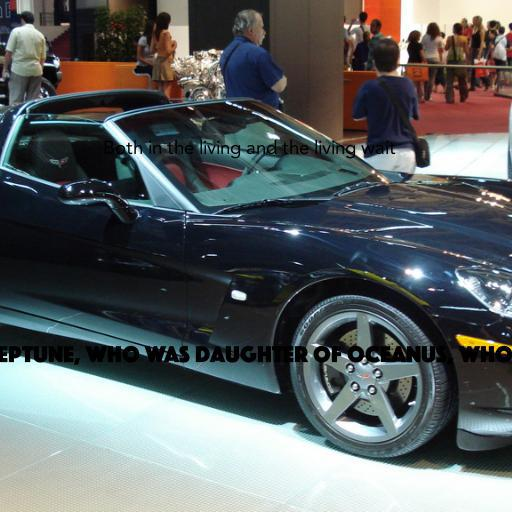Avenir: (102, 139, 396, 159)
Phosphate: (0, 345, 512, 365)
